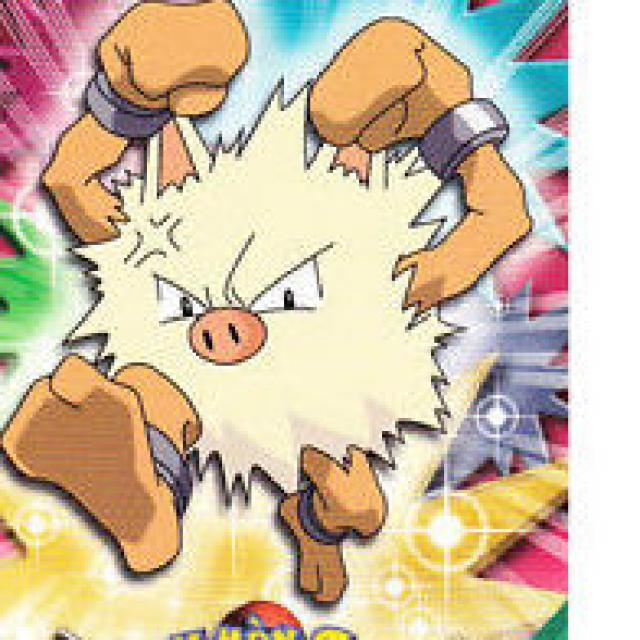Primeape: (85, 35, 482, 557)
